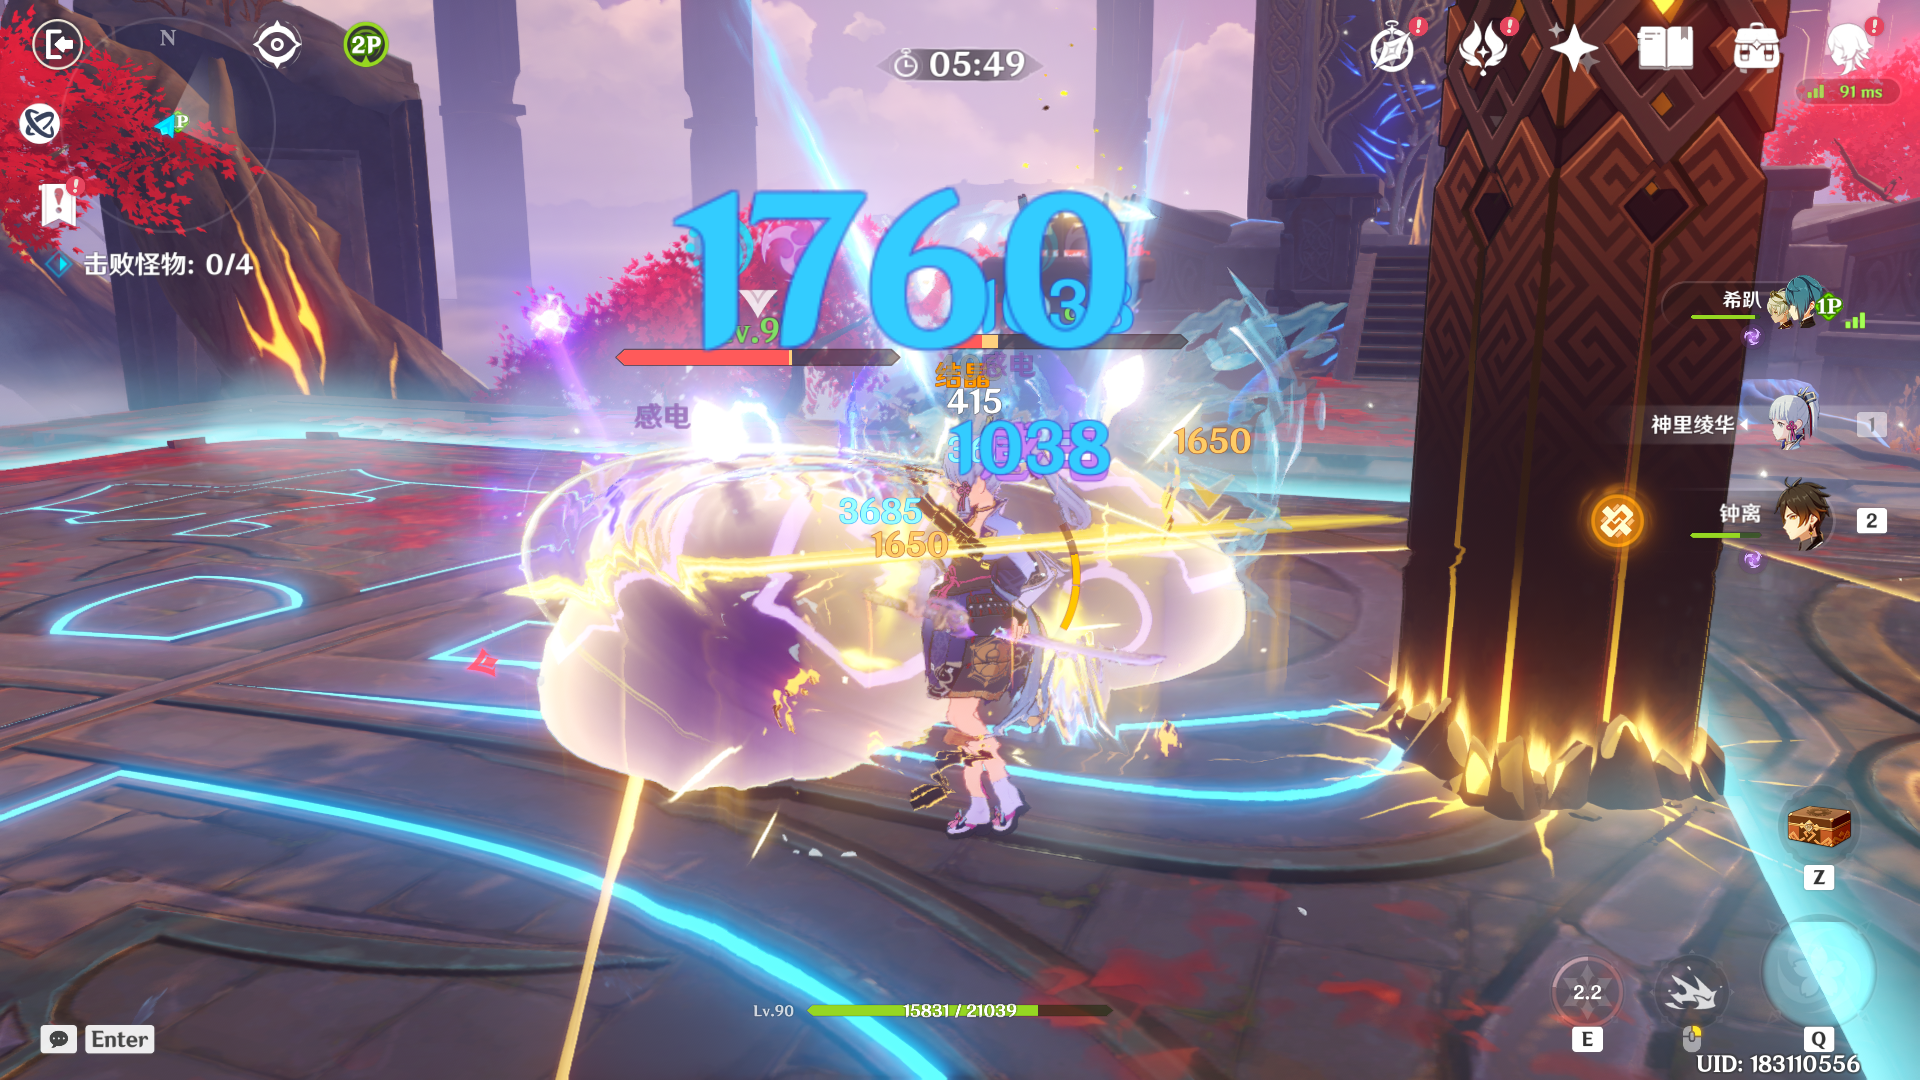character: (891, 429, 1135, 889)
slime: (497, 440, 980, 833), (866, 410, 1269, 721)
